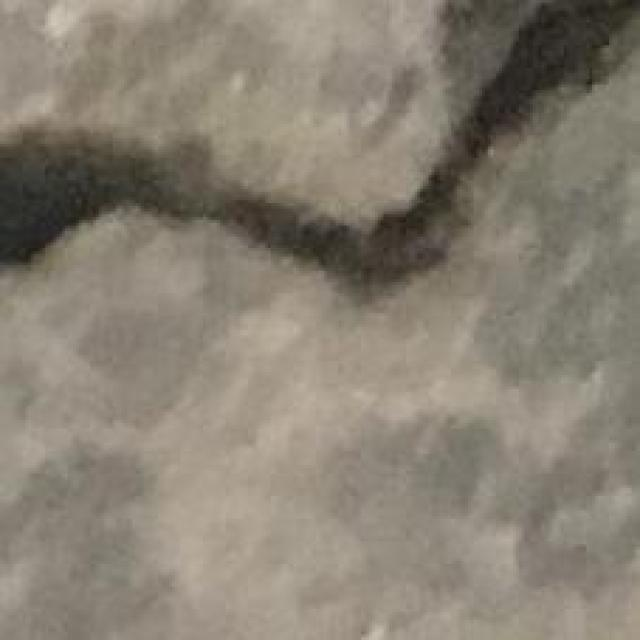horizontal crack: (0, 0, 640, 293)
